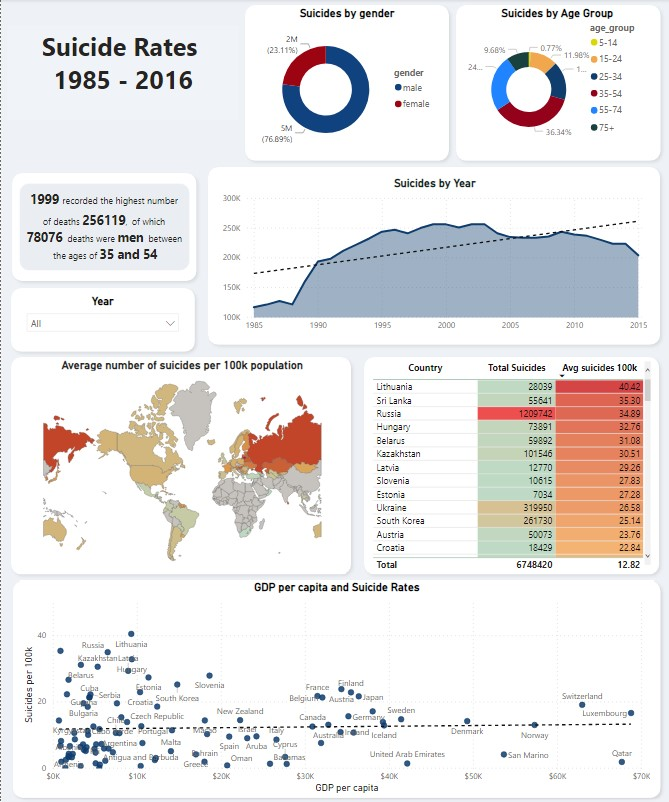

This screenshot's page, from the dashboard's own definition file:
{"tool":"powerbi","page":{"name":"Suicide Rates","canvas":[1000,1200],"ordinal":1},"visuals":[{"type":"shape","box":[7.5,250,292.5,178.8],"z":0},{"type":"shape","box":[6.7,421.7,291.7,113.3],"z":1000},{"type":"shape","box":[354.4,0,322.2,250],"z":2000},{"type":"shape","box":[668.8,0,322.5,250],"z":3000},{"type":"shape","box":[300,241.7,691.7,283.3],"z":4000},{"type":"shape","box":[531.7,525,458.3,341.7],"z":5000},{"type":"shape","box":[6.7,525,525,341.7],"z":6000},{"type":"areaChart","title":"Suicides by Year","fields":{"Category":["Years_lookup.year_date"],"Y":["Suicide_rates.Total Suicides"]},"box":[325,263.3,643.3,240],"z":7000},{"type":"slicer","title":"Year","fields":{"Values":["Years_lookup.year_date"]},"box":[28.3,440,246.7,63.3],"z":8000},{"type":"donutChart","title":"Suicides by gender","fields":{"Category":["Gender_lookup.gender"],"Y":["Suicide_rates.Total Suicides"]},"box":[376.8,10,277.6,230],"z":9000},{"type":"donutChart","title":"Suicides by Age Group","fields":{"Y":["Suicide_rates.Total Suicides"],"Series":["Age_groups_lookup.age_group"]},"box":[690.8,10,278,230],"z":10000},{"type":"shapeMap","title":"Average number of suicides per 100k population","fields":{"Value":["Suicide_rates.Avg suicides 100k"],"Category":["Countries_lookup.country"]},"box":[26.7,535,486.7,321.7],"z":12000},{"type":"tableEx","fields":{"Values":["Countries_lookup.country","Suicide_rates.Total Suicides","Suicide_rates.Avg suicides 100k"]},"box":[548.3,535,425,321.7],"z":13000},{"type":"shape","box":[8.8,858.8,982.5,341.2],"z":14000},{"type":"scatterChart","title":"GDP per capita and Suicide Rates","fields":{"Category":["Countries_lookup.Country"],"Y":["Suicide_rates.Avg suicides 100k"],"X":["Economic_indicators.avg gdp per capita"]},"box":[28.3,866.7,945,323.3],"z":15000},{"type":"textbox","box":[8.6,40,345.7,141.4],"z":18000},{"type":"multiRowCard","fields":{"Values":["Suicide_rates.Total Suicides","Suicide_rates.% of All Suicides"]},"box":[28.3,268.3,241.5,141.6],"z":18001}]}

Visuals, with their boxes in screenshot pixels (x1, y1, x2, y2), scaled from the page's 1000x1200 canvas onto the 669x802 screenshot:
shape: region(5, 167, 201, 287)
shape: region(4, 282, 200, 358)
shape: region(237, 0, 453, 167)
shape: region(447, 0, 663, 167)
shape: region(201, 162, 663, 351)
shape: region(356, 351, 662, 579)
shape: region(4, 351, 356, 579)
"Suicides by Year" areaChart: region(217, 176, 648, 336)
"Year" slicer: region(19, 294, 184, 336)
"Suicides by gender" donutChart: region(252, 7, 438, 160)
"Suicides by Age Group" donutChart: region(462, 7, 648, 160)
"Average number of suicides per 100k population" shapeMap: region(18, 358, 343, 573)
tableEx - Countries_lookup.country x Suicide_rates.Total Suicides: region(367, 358, 651, 573)
shape: region(6, 574, 663, 801)
"GDP per capita and Suicide Rates" scatterChart: region(19, 579, 651, 795)
textbox: region(6, 27, 237, 121)
multiRowCard - Suicide_rates.Total Suicides x Suicide_rates.% of All Suicides: region(19, 179, 180, 274)
